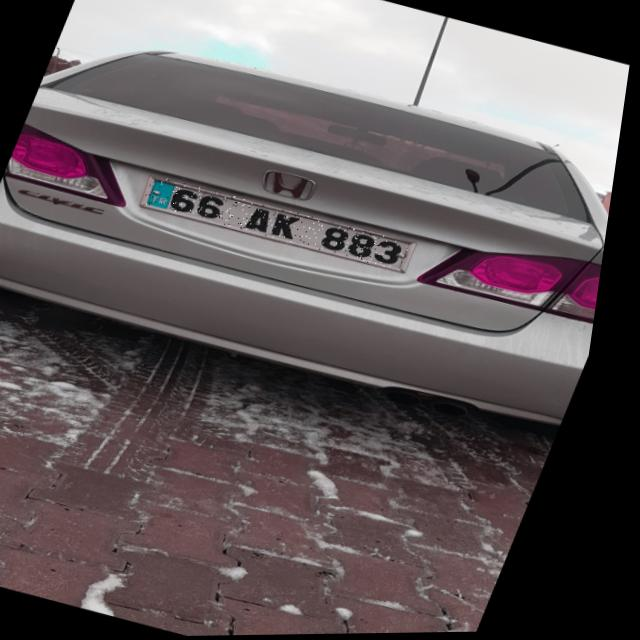license_plate: (140, 172, 427, 276)
